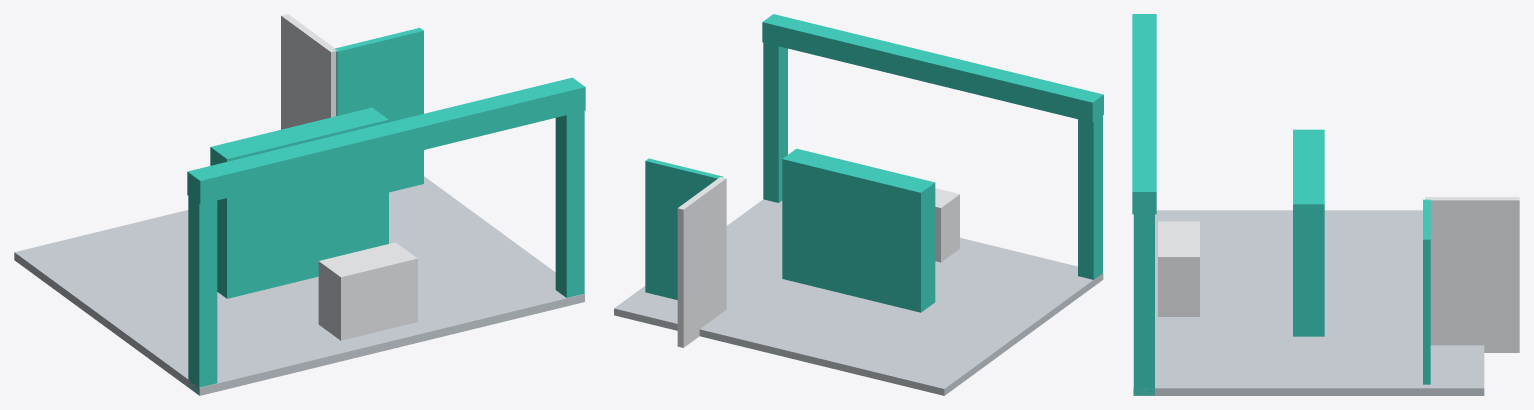
3 renders of one model, left to right at view 1: azimuth 30°, elevation 25°; view 2: azimuth 150°, elevation 25°; view 3: azimuth 270°, elevation 25°, orthographic. The views are drawn at different scales.
Visible parts, largest first — view 1: Exhibition Booth Concept; view 2: Exhibition Booth Concept; view 3: Exhibition Booth Concept.
Part boxes in pixels (x1,y1,x2,y2): Exhibition Booth Concept: (14, 14, 585, 395); Exhibition Booth Concept: (614, 14, 1103, 395); Exhibition Booth Concept: (1132, 14, 1519, 395).
Size of the model in its own units: 6 by 3.2 by 5.52.
